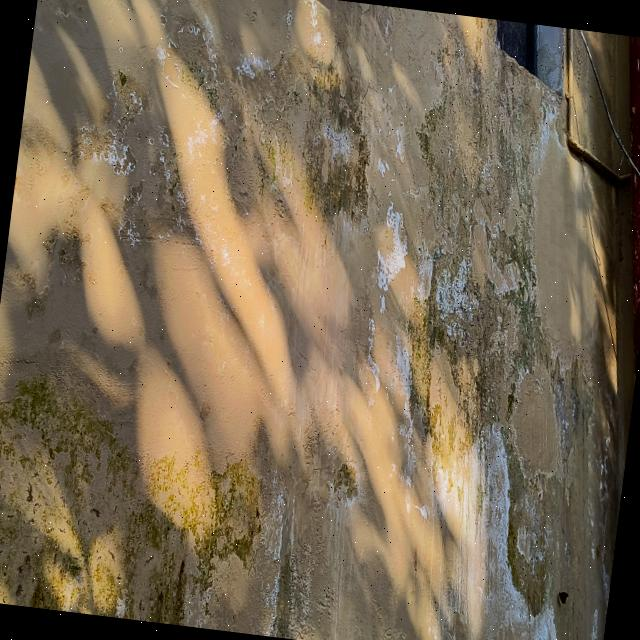Paint Peeling: (0, 0, 622, 640)
pollution -moisture induced blackening: (0, 0, 619, 640)
